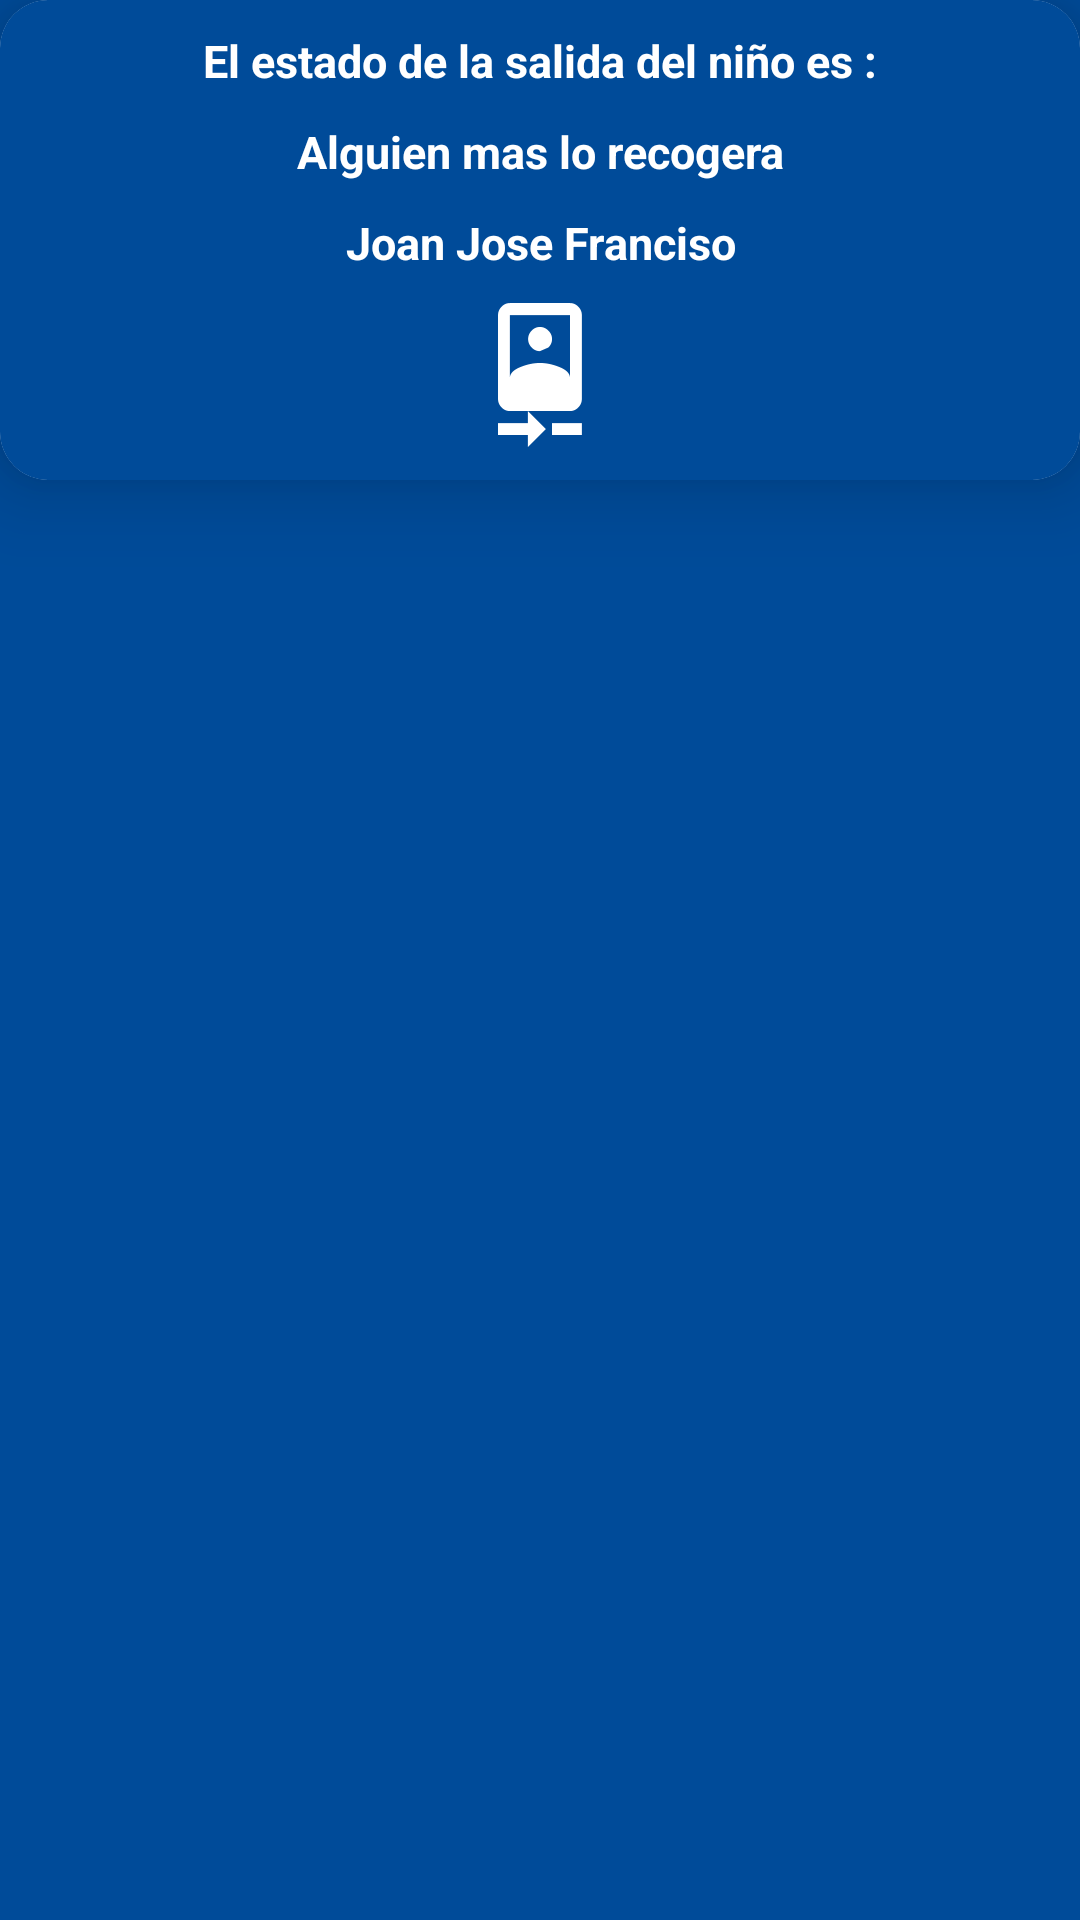

Icon click points for this 1080×1920 phone screenshot, format point (x, y):
camera front: point (540, 375)
